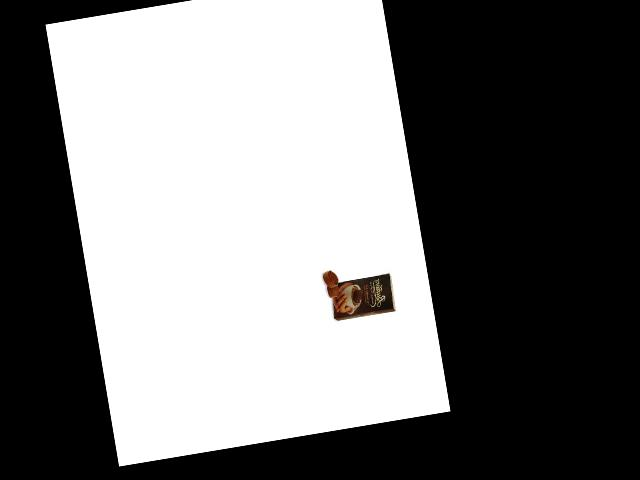chocolate: (325, 267, 399, 324)
